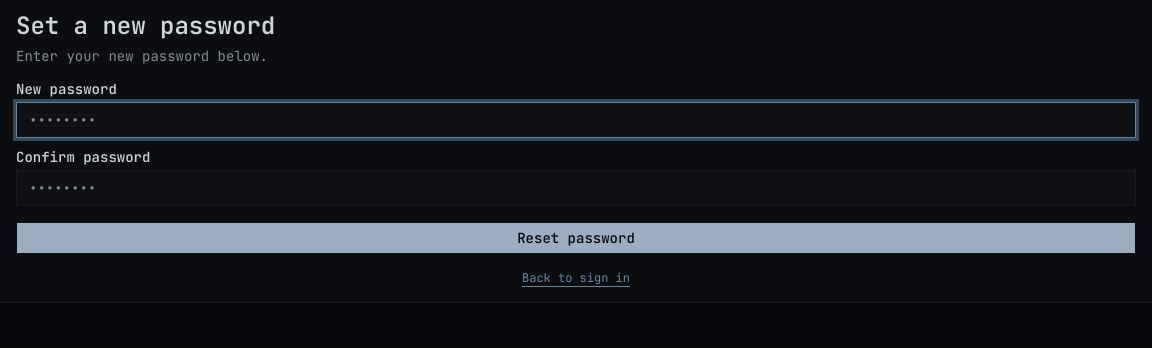
ResetPasswordPage › shows error when passwords do not match
In the password field labelled "New password": (576, 120) 16,102 -> 1136,138, type "password1"
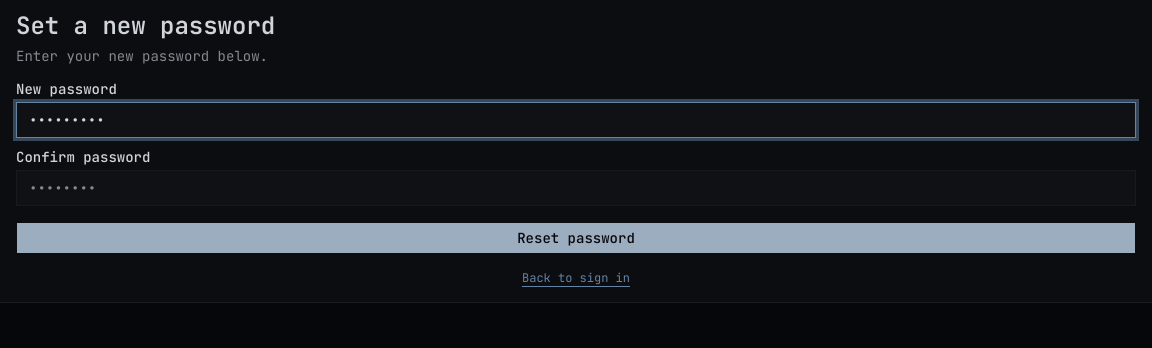
In the password field labelled "Confirm password": (576, 188) 16,170 -> 1136,206, type "password2"
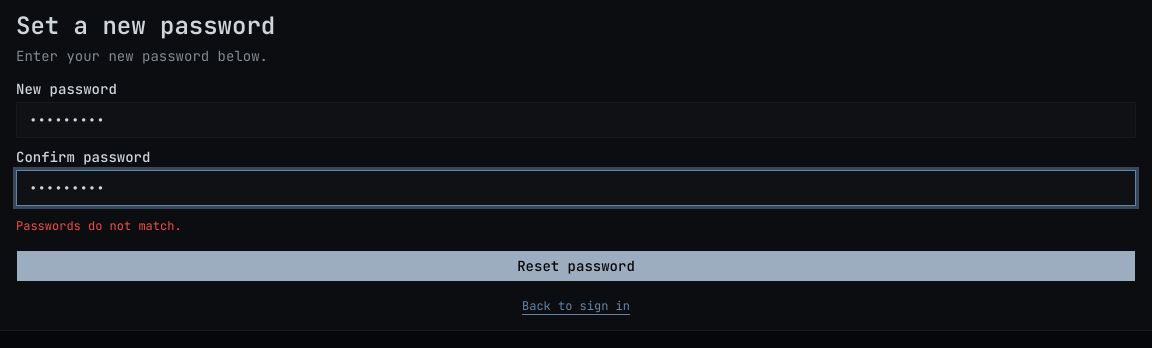
Expected: the text "Passwords do not match." is shown, 16,218 -> 182,234
